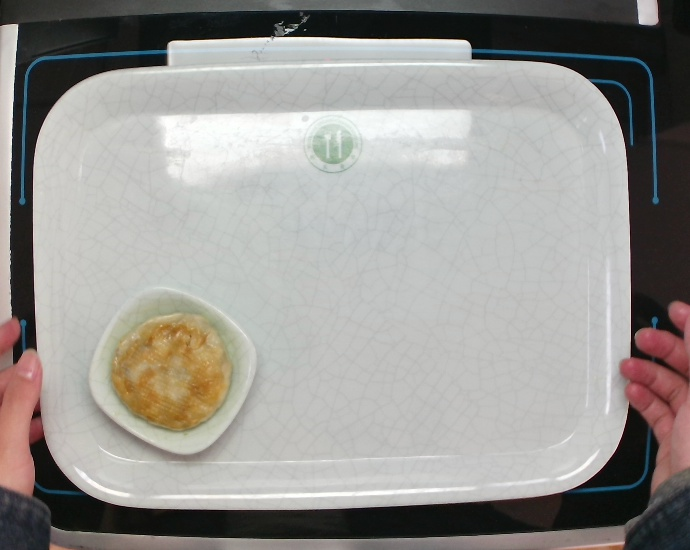JYsf-Si_Fang_Die: (87, 279, 270, 459)
